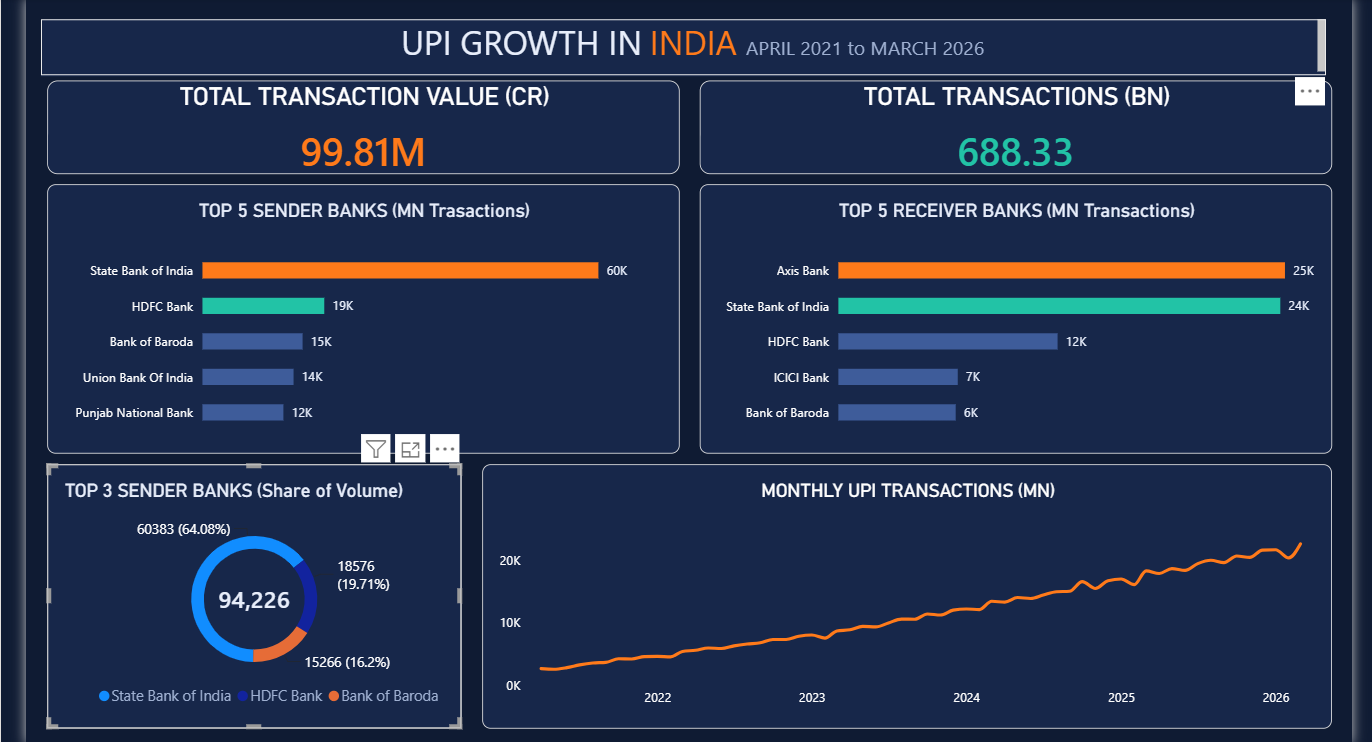

The dashboard page shown, as its layout file describes it:
{"tool":"powerbi","page":{"name":"Page 1","canvas":[1280,720],"ordinal":0},"visuals":[{"type":"clusteredBarChart","title":"TOP 5 SENDER BANKS (MN Trasactions)","fields":{"Category":["Cleaned_UPI_Bank_Data.Bank_Name"],"Y":["Sum(Cleaned_UPI_Bank_Data.Remitter_Vol_Mn)"]},"box":[20,180,610,260],"z":0},{"type":"cardVisual","title":"TOTAL TRANSACTIONS  (BN)","fields":{"Data":["Sheet1.Volume_BN"]},"box":[650,80,610,90],"z":1000},{"type":"clusteredBarChart","title":"TOP 5 RECEIVER BANKS (MN Transactions)","fields":{"Category":["Cleaned_UPI_Bank_Data.Bank_Name"],"Y":["Sum(Cleaned_UPI_Bank_Data.Beneficiary_Vol_Mn)"]},"box":[650,180,610,260],"z":2000},{"type":"lineChart","title":"MONTHLY UPI TRANSACTIONS (MN)","fields":{"Category":["Sheet1.Month.Variation.Date Hierarchy.Year","Sheet1.Month.Variation.Date Hierarchy.Quarter","Sheet1.Month.Variation.Date Hierarchy.Month","Sheet1.Month.Variation.Date Hierarchy.Day"],"Y":["Sum(Sheet1.Volume (in MN))"]},"box":[440,450,820,255],"z":3000},{"type":"donutChart","title":"TOP 3 SENDER BANKS (Share of Volume)","fields":{"Category":["Cleaned_UPI_Bank_Data.Bank_Name"],"Y":["Sum(Cleaned_UPI_Bank_Data.Remitter_Vol_Mn)"]},"box":[20,450,400,255],"z":4000},{"type":"cardVisual","title":"TOTAL TRANSACTION VALUE (CR)","fields":{"Data":["Sheet1.Total_Transaction"]},"box":[20,80,610,90],"z":5000},{"type":"textbox","box":[15,20,1240,55],"z":5001}]}

Visuals, with their boxes in screenshot pixels (x1, y1, x2, y2):
"TOP 5 SENDER BANKS (MN Trasactions)" clusteredBarChart: <region>18, 183, 661, 457</region>
"TOTAL TRANSACTIONS  (BN)" cardVisual: <region>682, 77, 1326, 172</region>
"TOP 5 RECEIVER BANKS (MN Transactions)" clusteredBarChart: <region>682, 183, 1326, 457</region>
"MONTHLY UPI TRANSACTIONS (MN)" lineChart: <region>461, 468, 1326, 737</region>
"TOP 3 SENDER BANKS (Share of Volume)" donutChart: <region>18, 468, 440, 737</region>
"TOTAL TRANSACTION VALUE (CR)" cardVisual: <region>18, 77, 661, 172</region>
textbox: <region>12, 14, 1321, 72</region>
